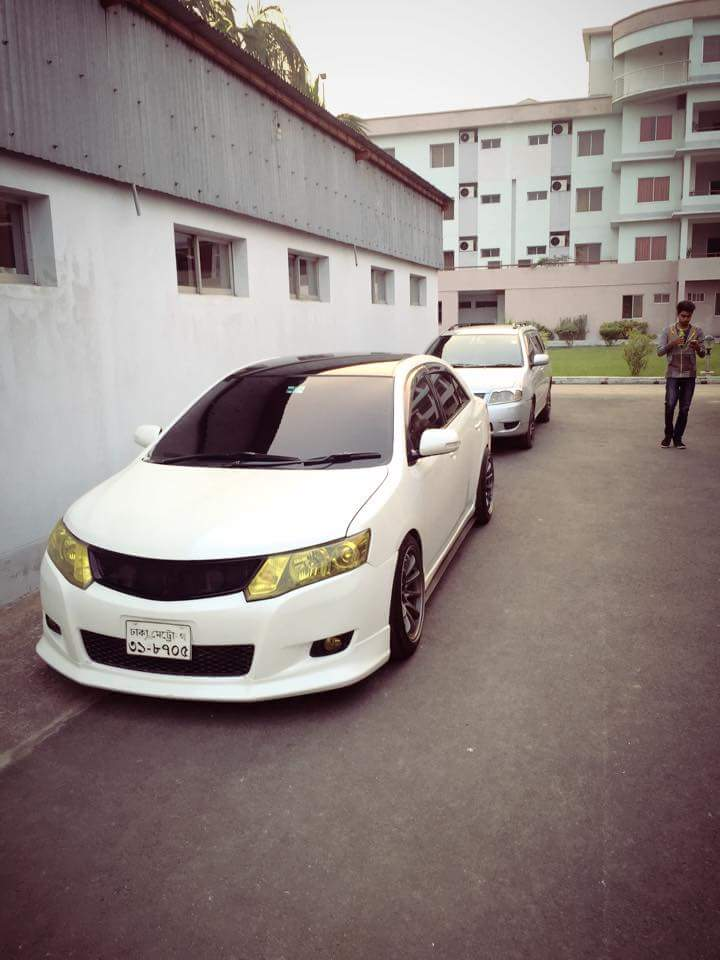registration_plate: (125, 620, 192, 661)
